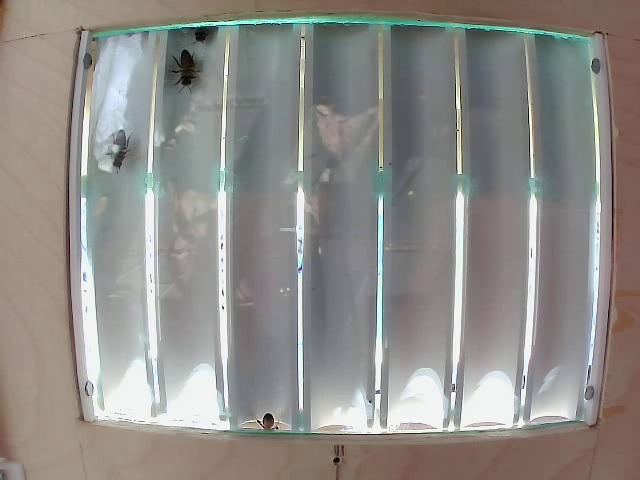bee: (97, 123, 142, 183), (162, 45, 198, 97)
